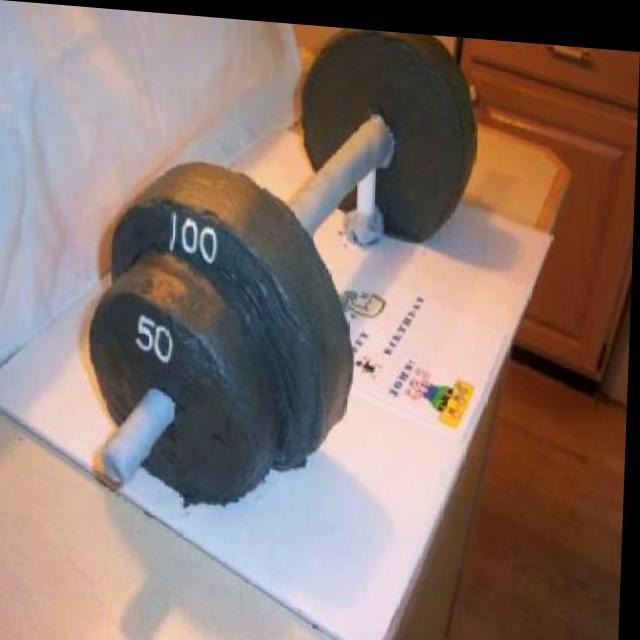barbell: (82, 282, 275, 530)
